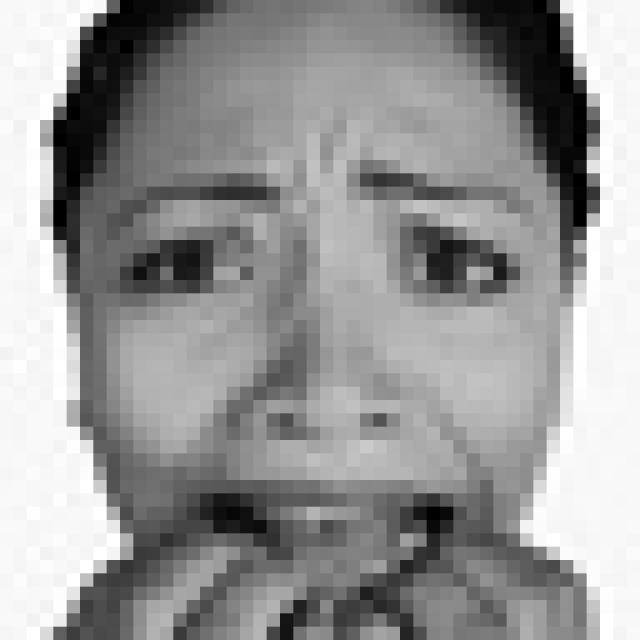fear: (108, 118, 538, 593)
